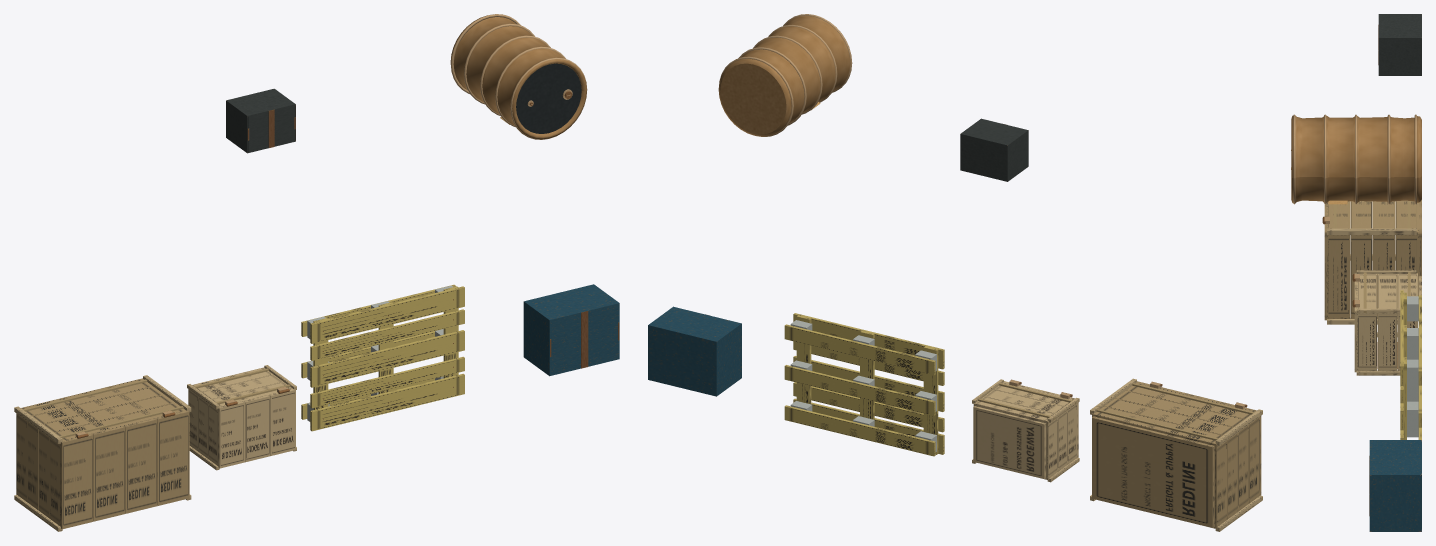
Rendered from PZ_Wooden_Crates_Pallets_CP26.glb.
3 renders of one model, left to right at view 1: azimuth 30°, elevation 25°; view 2: azimuth 150°, elevation 25°; view 3: azimuth 270°, elevation 25°, orthographic. The views are drawn at different scales.
Visible parts, largest first — view 1: DRUM_200L_STEEL_rolled_blue_body, DRUM_200L_STEEL_recessed_head, EPAL_1200x800_top_deck_01, EPAL_1200x800_top_deck_05, EPAL_1200x800_top_deck_03, CRATE_LARGE_1000_lid_plank_01, CRATE_LARGE_1000_lid_plank_02, CRATE_LARGE_1000_lid_plank_03, CRATE_LARGE_1000_lid_plank_04, EPAL_1200x800_top_deck_02, EPAL_1200x800_top_deck_04, CARTON_LARGE_550_back_wall (+19 smaller); view 2: CRATE_LARGE_1000_floor, DRUM_200L_STEEL_rolled_blue_body, CRATE_SMALL_600_floor, CARTON_LARGE_550_bottom, EPAL_1200x800_bottom_runner_01, EPAL_1200x800_bottom_runner_02, EPAL_1200x800_bottom_runner_03, CARTON_SMALL_380_bottom, CARTON_LARGE_550_back_wall, EPAL_1200x800_top_deck_02, EPAL_1200x800_top_deck_05, CRATE_LARGE_1000_back_slat_02 (+16 smaller); view 3: DRUM_200L_STEEL_rolled_blue_body, CARTON_LARGE_550_right_wall, CRATE_LARGE_1000_right_slat_04, CARTON_LARGE_550_back_wall, CARTON_SMALL_380_right_wall, CRATE_SMALL_600_right_slat_03, CRATE_SMALL_600_right_slat_02, CARTON_SMALL_380_back_wall, CRATE_LARGE_1000_right_slat_03, CRATE_LARGE_1000_right_slat_01, CRATE_LARGE_1000_right_slat_02, CRATE_SMALL_600_back_slat_02 (+27 smaller).
Part boxes in pixels (x1=…): DRUM_200L_STEEL_rolled_blue_body: x1=450, y1=15, x2=586, y2=139; DRUM_200L_STEEL_recessed_head: x1=516, y1=63, x2=581, y2=133; EPAL_1200x800_top_deck_01: x1=310, y1=373, x2=464, y2=431; EPAL_1200x800_top_deck_05: x1=310, y1=286, x2=464, y2=343; EPAL_1200x800_top_deck_03: x1=310, y1=330, x2=464, y2=387; CRATE_LARGE_1000_lid_plank_01: x1=60, y1=433, x2=93, y2=529; CRATE_LARGE_1000_lid_plank_02: x1=92, y1=426, x2=125, y2=521; CRATE_LARGE_1000_lid_plank_03: x1=124, y1=418, x2=157, y2=513; CRATE_LARGE_1000_lid_plank_04: x1=156, y1=411, x2=189, y2=505; EPAL_1200x800_top_deck_02: x1=310, y1=356, x2=464, y2=408; EPAL_1200x800_top_deck_04: x1=310, y1=309, x2=464, y2=360; CARTON_LARGE_550_back_wall: x1=524, y1=284, x2=619, y2=320; CRATE_LARGE_1000_floor: x1=1092, y1=416, x2=1214, y2=527; DRUM_200L_STEEL_rolled_blue_body: x1=718, y1=15, x2=850, y2=136; CRATE_SMALL_600_floor: x1=973, y1=406, x2=1045, y2=479; CARTON_LARGE_550_bottom: x1=648, y1=325, x2=716, y2=396; EPAL_1200x800_bottom_runner_01: x1=784, y1=405, x2=935, y2=456; EPAL_1200x800_bottom_runner_02: x1=784, y1=365, x2=935, y2=415; EPAL_1200x800_bottom_runner_03: x1=784, y1=324, x2=935, y2=375; CARTON_SMALL_380_bottom: x1=960, y1=133, x2=1007, y2=181; CARTON_LARGE_550_back_wall: x1=649, y1=306, x2=741, y2=341; EPAL_1200x800_top_deck_02: x1=793, y1=382, x2=944, y2=432; EPAL_1200x800_top_deck_05: x1=793, y1=313, x2=944, y2=369; CRATE_LARGE_1000_back_slat_02: x1=1104, y1=398, x2=1233, y2=435; DRUM_200L_STEEL_rolled_blue_body: x1=1291, y1=115, x2=1421, y2=202; CARTON_LARGE_550_right_wall: x1=1369, y1=476, x2=1420, y2=530; CRATE_LARGE_1000_right_slat_04: x1=1327, y1=235, x2=1349, y2=316; CARTON_LARGE_550_back_wall: x1=1369, y1=440, x2=1420, y2=475; CARTON_SMALL_380_right_wall: x1=1378, y1=38, x2=1421, y2=75; CRATE_SMALL_600_right_slat_03: x1=1357, y1=314, x2=1377, y2=369; CRATE_SMALL_600_right_slat_02: x1=1378, y1=314, x2=1397, y2=369; CARTON_SMALL_380_back_wall: x1=1378, y1=14, x2=1421, y2=38; CRATE_LARGE_1000_right_slat_03: x1=1350, y1=235, x2=1372, y2=316; CRATE_LARGE_1000_right_slat_01: x1=1395, y1=235, x2=1417, y2=316; CRATE_LARGE_1000_right_slat_02: x1=1373, y1=235, x2=1395, y2=316; CRATE_SMALL_600_back_slat_02: x1=1378, y1=274, x2=1397, y2=314.
Size of the model in its own units: 4.57 by 2.76 by 0.874.
Materials: 1 (1 with a texture image).
